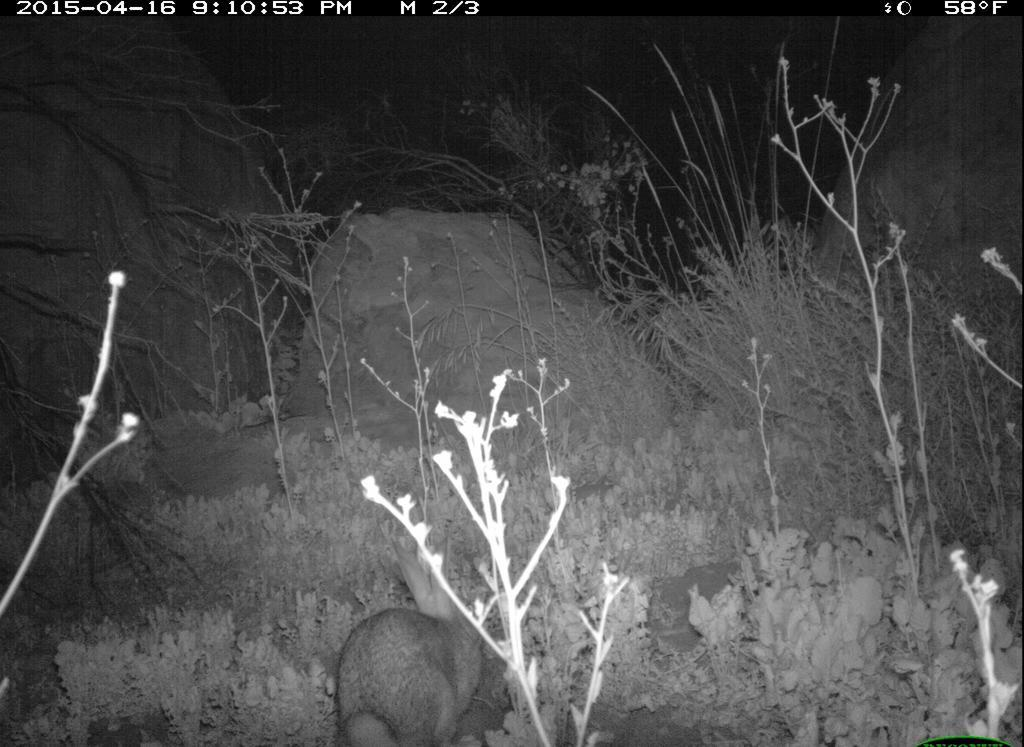rabbit: (327, 537, 527, 747)
